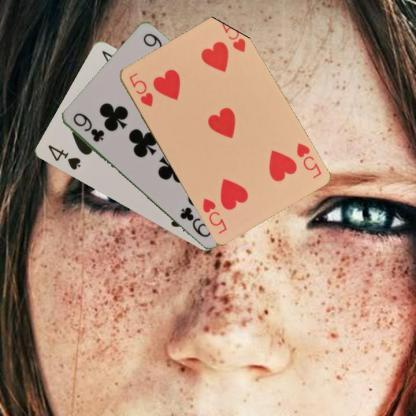4s: (46, 142, 82, 172)
5h: (292, 140, 322, 180), (126, 69, 154, 108)
9c: (70, 110, 106, 144)
